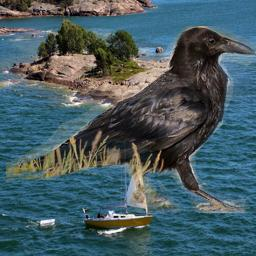Crow: (6, 26, 256, 213)
